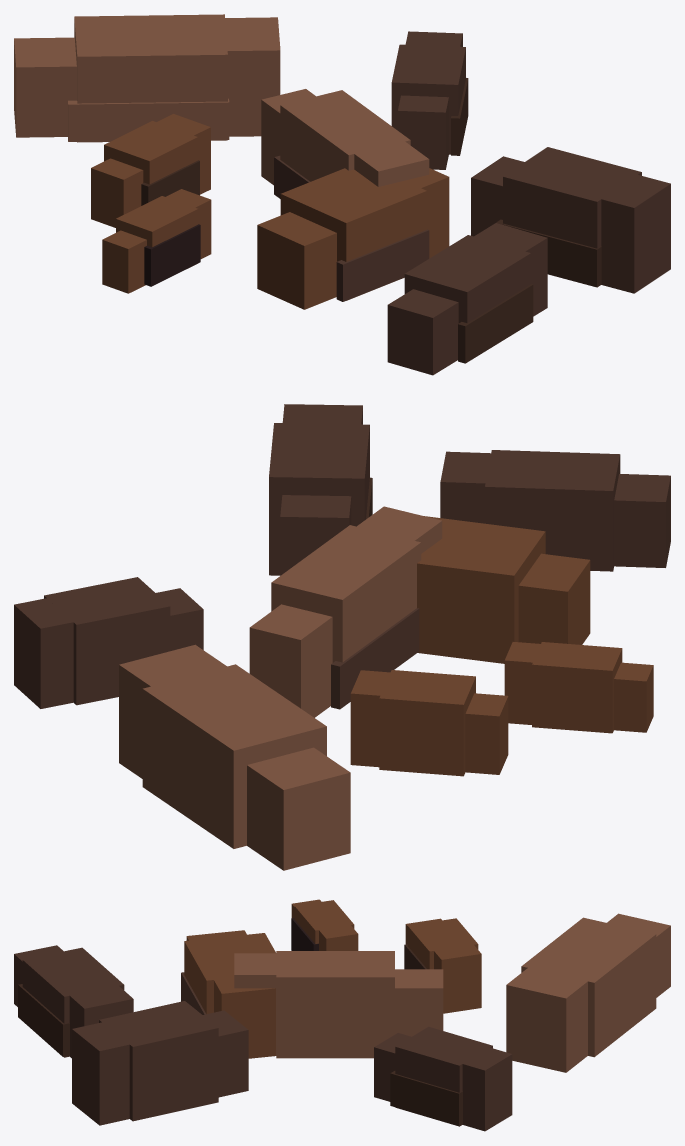
The model's file is CMU3DDecorFloorBrickrubbleSouth.glb.
3 renders of one model, top to bottom at view 1: azimuth 30°, elevation 25°; view 2: azimuth 150°, elevation 25°; view 3: azimuth 270°, elevation 25°, orthographic. The views are drawn at different scales.
Visible parts, largest first — view 1: brick 1 fractured section 2, brick 7 fractured section 2, brick 6 fractured section 2, brick 4 fractured section 2, brick 7 fractured section 3, brick 8 fractured section 2, brick 6 fractured section 1, brick 1 fractured section 1, brick 1 fractured section 3, brick 8 fractured section 1, brick 1 lower fracture face, brick 5 fractured section 2 (+20 smaller); view 2: brick 1 fractured section 2, brick 6 fractured section 2, brick 8 fractured section 2, brick 4 fractured section 2, brick 1 fractured section 1, brick 5 fractured section 2, brick 2 fractured section 2, brick 7 fractured section 2, brick 4 fractured section 1, brick 3 fractured section 2, brick 6 fractured section 1, brick 5 fractured section 3 (+12 smaller); view 3: brick 4 fractured section 2, brick 1 fractured section 2, brick 7 fractured section 2, brick 1 fractured section 3, brick 7 fractured section 3, brick 8 fractured section 2, brick 5 fractured section 2, brick 5 fractured section 3, brick 6 fractured section 2, brick 6 fractured section 3, brick 4 fractured section 1, brick 2 fractured section 3 (+13 smaller).
Part boxes in pixels (box(x1,y1,x2,y2)): brick 1 fractured section 2: box(74, 14, 227, 142); brick 7 fractured section 2: box(503, 147, 641, 287); brick 6 fractured section 2: box(280, 168, 426, 300); brick 4 fractured section 2: box(280, 90, 410, 181); brick 7 fractured section 3: box(601, 175, 670, 293); brick 8 fractured section 2: box(404, 235, 530, 323); brick 6 fractured section 1: box(257, 212, 336, 309); brick 1 fractured section 1: box(14, 37, 76, 137); brick 1 fractured section 3: box(225, 17, 280, 136); brick 8 fractured section 1: box(387, 289, 458, 375); brick 1 lower fracture face: box(68, 98, 229, 141); brick 5 fractured section 2: box(391, 44, 465, 154); brick 1 fractured section 2: box(142, 664, 326, 848); brick 6 fractured section 2: box(417, 516, 545, 663); brick 8 fractured section 2: box(485, 450, 620, 571); brick 4 fractured section 2: box(271, 525, 421, 662); brick 1 fractured section 1: box(247, 747, 350, 870); brick 5 fractured section 2: box(44, 577, 170, 705); brick 2 fractured section 2: box(379, 670, 475, 776); brick 7 fractured section 2: box(269, 423, 369, 575); brick 4 fractured section 1: box(249, 604, 332, 717); brick 3 fractured section 2: box(532, 642, 622, 733); brick 6 fractured section 1: box(518, 553, 590, 644); brick 5 fractured section 3: box(14, 598, 73, 708); brick 4 fractured section 2: box(276, 951, 394, 1058); brick 1 fractured section 2: box(521, 917, 656, 1057); brick 7 fractured section 2: box(99, 1001, 218, 1121); brick 1 fractured section 3: box(506, 968, 587, 1072); brick 7 fractured section 3: box(72, 1022, 129, 1125); brick 8 fractured section 2: box(22, 947, 124, 1057); brick 5 fractured section 2: box(395, 1026, 492, 1126); brick 5 fractured section 3: box(462, 1047, 512, 1131); brick 6 fractured section 2: box(184, 933, 275, 1014); brick 6 fractured section 3: box(214, 978, 275, 1058); brick 4 fractured section 1: box(395, 969, 443, 1036); brick 2 fractured section 3: box(434, 945, 481, 1013).
Size of the model in its own units: 0.6123 by 0.12 by 0.88.
